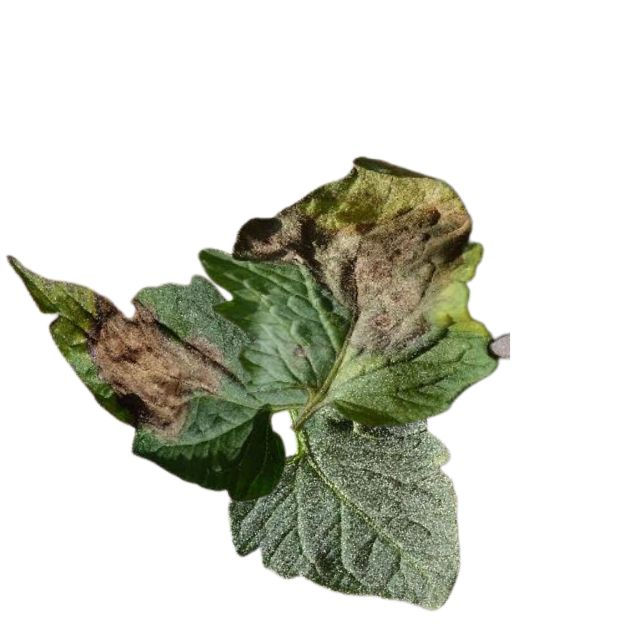Late_blight: (232, 156, 473, 352), (85, 291, 228, 444)
